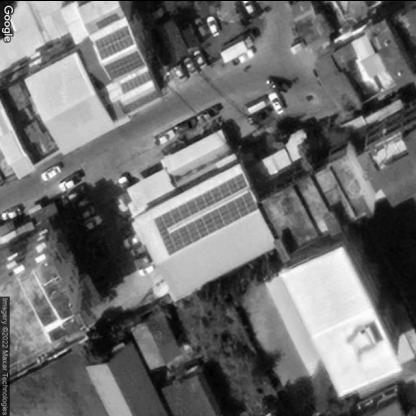solar-pv-panel: (153, 171, 257, 258), (94, 24, 133, 59), (103, 49, 145, 80), (117, 70, 152, 95)
